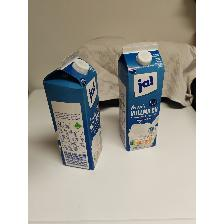Milch: (43, 51, 104, 172), (117, 42, 165, 152)
